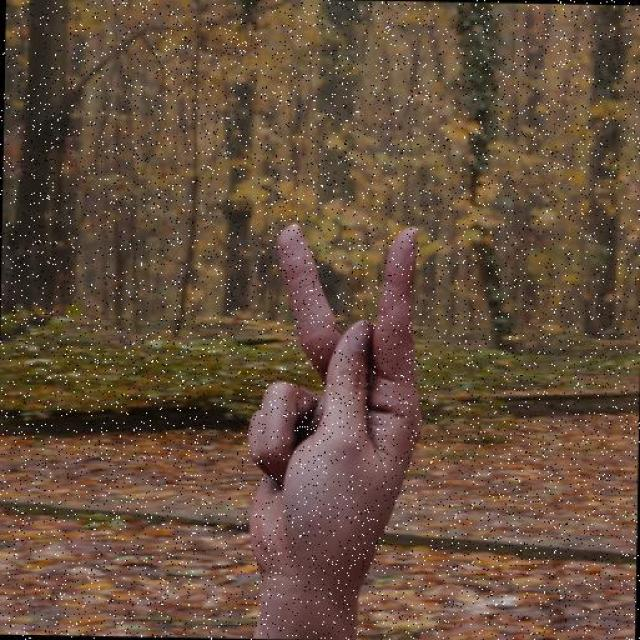K: (175, 180, 486, 609)
